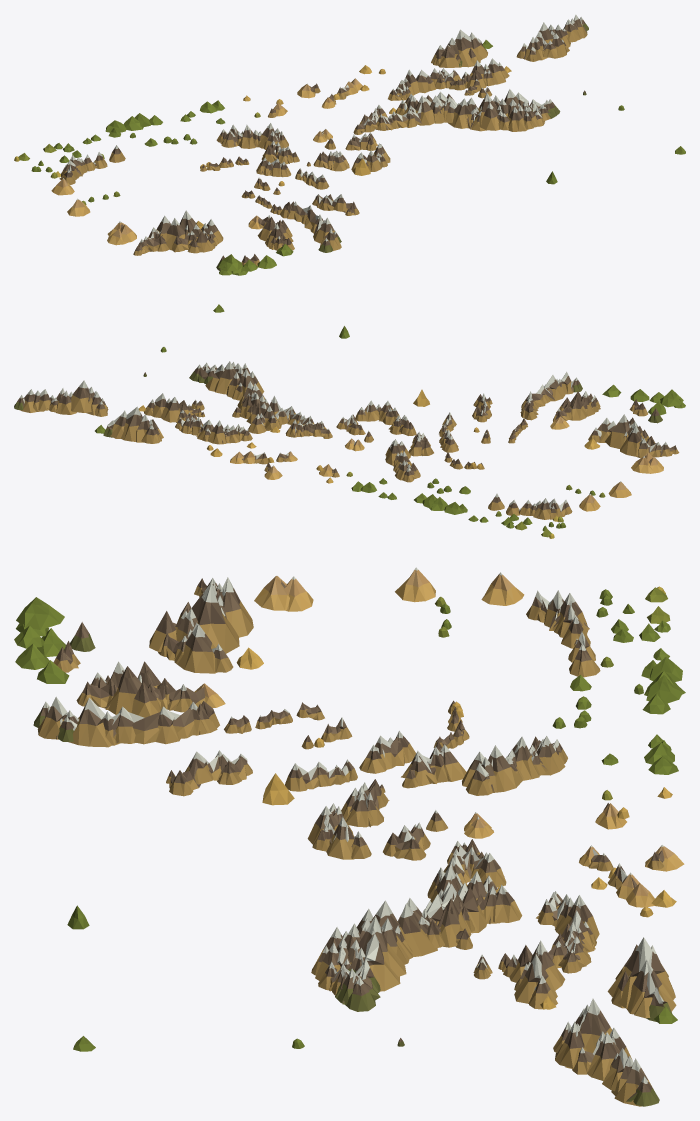
Rendered from mountains.glb.
The picture shows the model from 3 angles, top to bottom: view 1: azimuth 30°, elevation 25°; view 2: azimuth 150°, elevation 25°; view 3: azimuth 270°, elevation 25°; orthographic projection. The views are drawn at different scales.
Visible parts, largest first — view 1: BoardMountains; view 2: BoardMountains; view 3: BoardMountains.
Boxes of the visible parts, x1,y1,x2,y2 form: BoardMountains: (14,14,685,275); BoardMountains: (14,304,685,538); BoardMountains: (14,567,685,1106).
Bounding box in the file's own units: 113 × 6.57 × 61.61.
